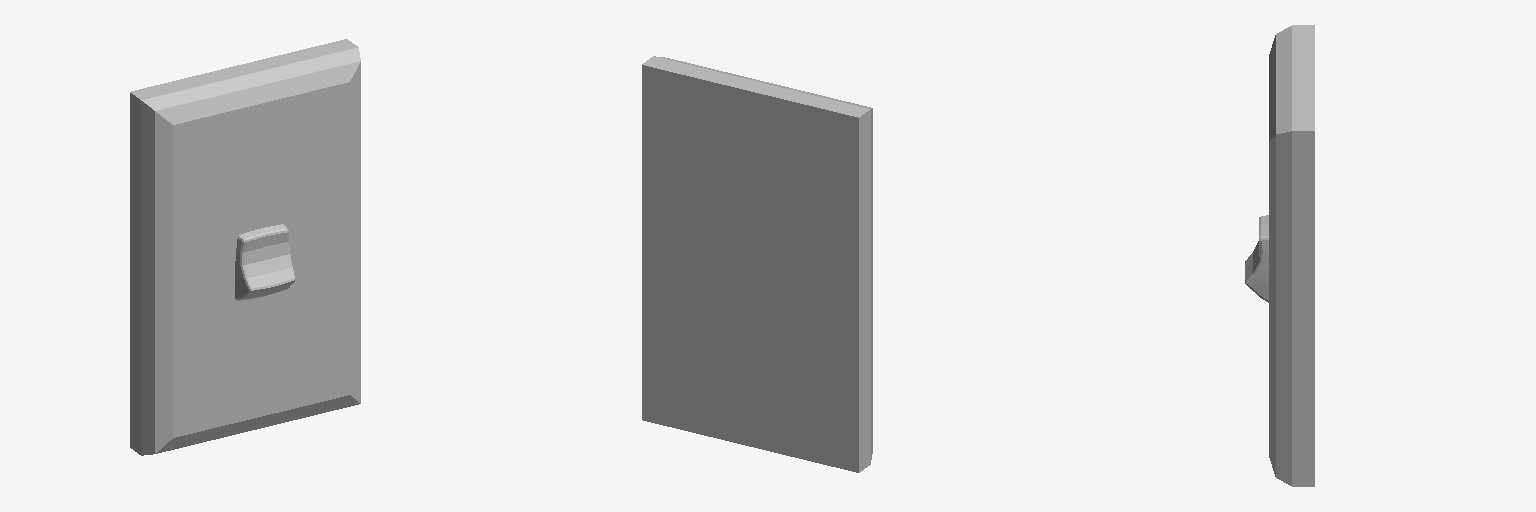
The model's file is LightSwitch.obj.
The picture shows the model from 3 angles: view 1: azimuth 30°, elevation 25°; view 2: azimuth 150°, elevation 25°; view 3: azimuth 270°, elevation 25°; orthographic projection.
Visible parts, largest first — view 1: pCube1, pCube2; view 2: pCube1; view 3: pCube1, pCube2.
Part boxes in pixels (x1,y1,x2,y2): pCube1: (130, 39, 360, 455); pCube2: (235, 224, 294, 300); pCube1: (642, 56, 872, 472); pCube1: (1269, 25, 1314, 486); pCube2: (1245, 215, 1268, 302).
Bounding box in the file's own units: 1 × 1.56 × 0.2827.